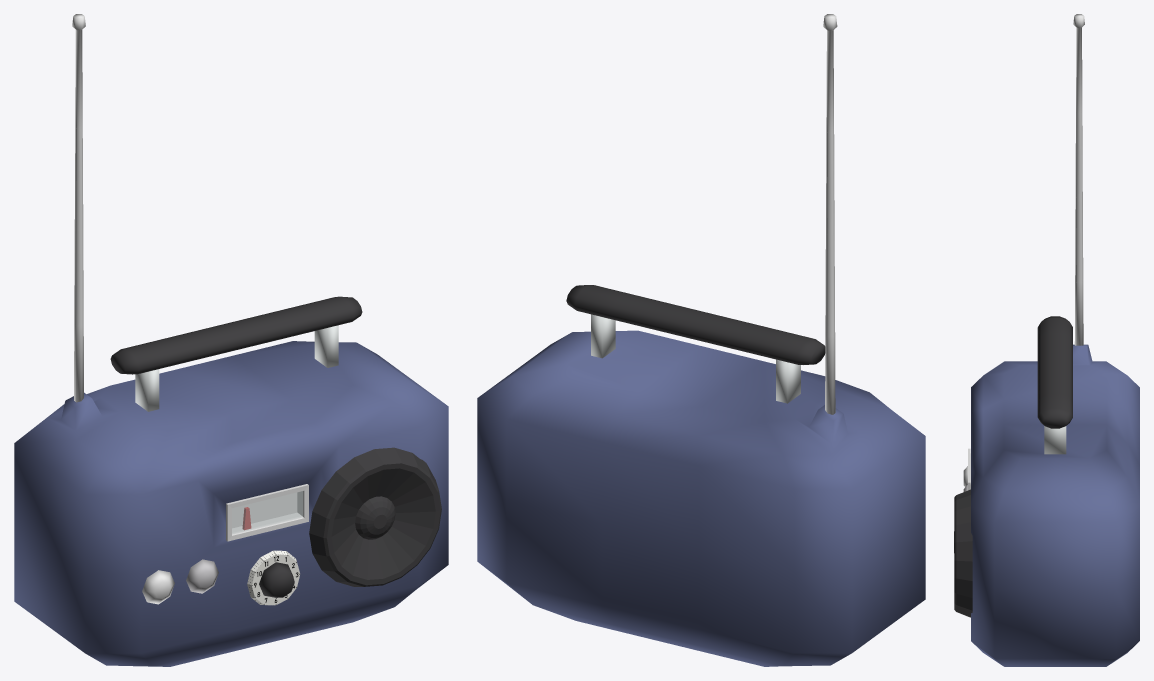
The model's file is Radio.fbx.
The picture shows the model from 3 angles, left to right: view 1: azimuth 30°, elevation 25°; view 2: azimuth 150°, elevation 25°; view 3: azimuth 270°, elevation 25°; orthographic projection. The views are drawn at different scales.
Parts seen in each view (by area): view 1: Radio body, Radio speaker, Radio Handle, Radio Antenna, Radio Tuner plate, Radio tuner glass, Radio knob numbers, Radio knob3, Radio handle rod1, Radio handle rod2, Radio Knob1, Radio Knob2; view 2: Radio body, Radio Handle, Radio Antenna, Radio handle rod1, Radio handle rod2; view 3: Radio body, Radio Handle, Radio Antenna, Radio speaker, Radio handle rod2.
Part boxes in pixels (box(x1,y1,x2,y2)): Radio body: box(14, 341, 448, 666); Radio speaker: box(309, 447, 441, 586); Radio Handle: box(110, 296, 362, 374); Radio Antenna: box(72, 14, 85, 402); Radio Tuner plate: box(226, 484, 308, 541); Radio tuner glass: box(232, 491, 302, 534); Radio knob numbers: box(247, 550, 300, 605); Radio knob3: box(259, 562, 294, 597); Radio handle rod1: box(135, 369, 159, 411); Radio handle rod2: box(314, 325, 338, 367); Radio Knob1: box(186, 559, 218, 593); Radio Knob2: box(142, 570, 174, 604); Radio body: box(477, 330, 925, 666); Radio Handle: box(566, 285, 825, 364); Radio Antenna: box(823, 14, 837, 414); Radio handle rod1: box(776, 359, 800, 403); Radio handle rod2: box(591, 314, 615, 358); Radio body: box(971, 344, 1139, 666); Radio Handle: box(1037, 316, 1072, 428); Radio Antenna: box(1073, 14, 1084, 345); Radio speaker: box(954, 489, 972, 617); Radio handle rod2: box(1044, 426, 1066, 454).
Bounding box in the file's own units: 0.8 × 1.33 × 0.4123.
8 materials, 2 textured.
